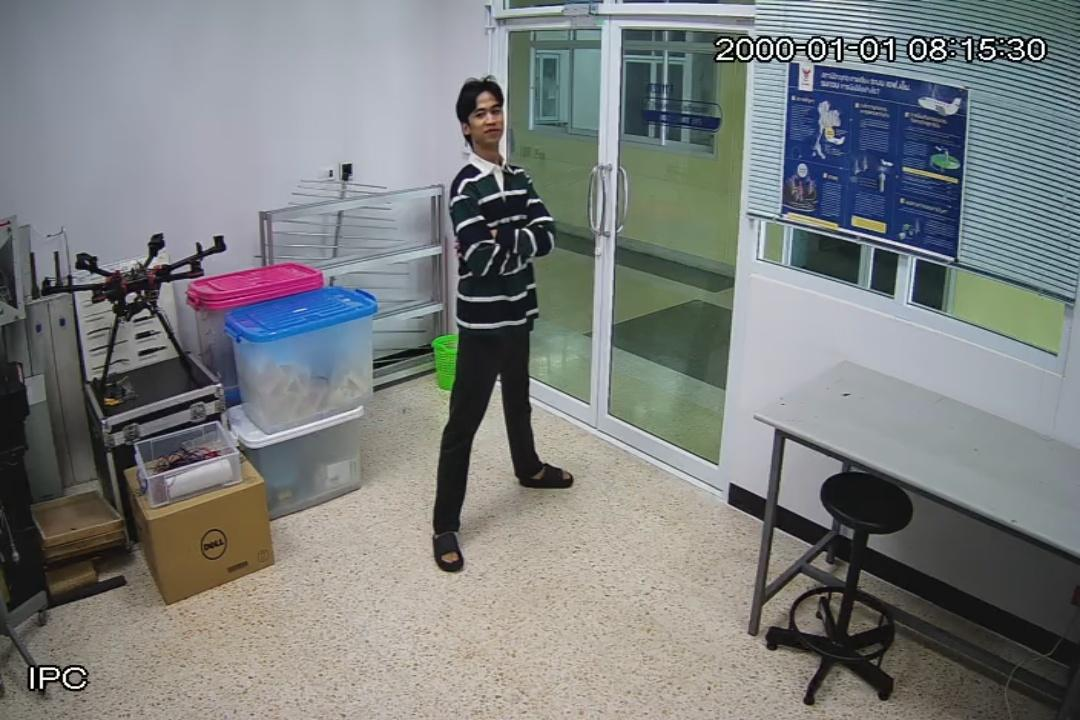normal: (435, 80, 575, 576)
